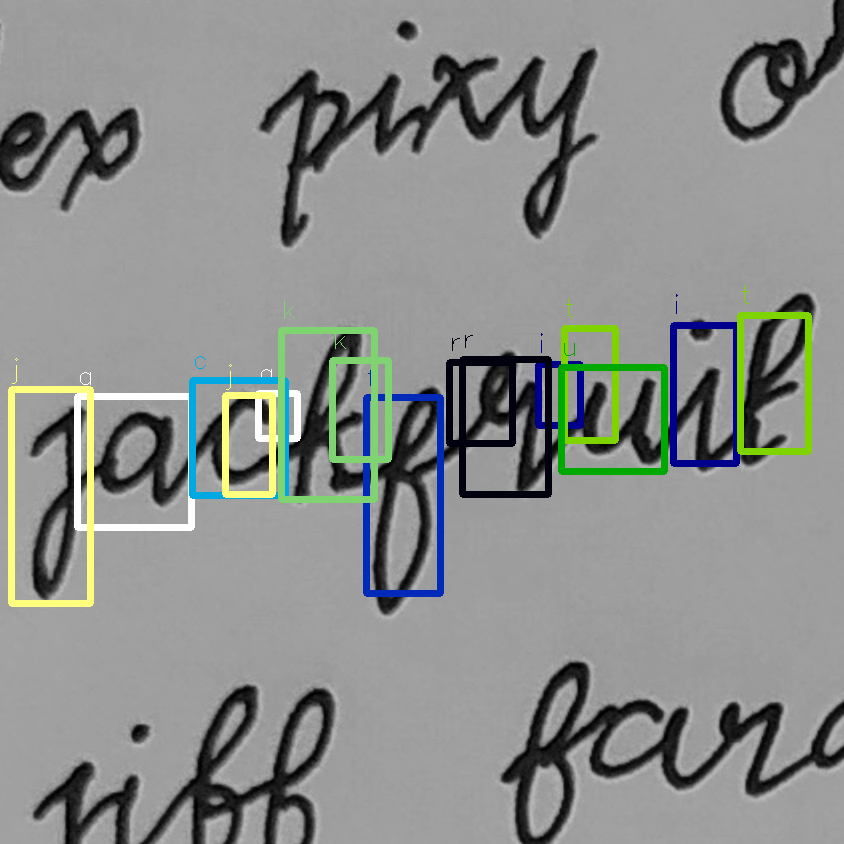a: (94, 405, 188, 508)
c: (200, 387, 281, 489)
f: (369, 379, 452, 617)
i: (670, 312, 726, 478)
j: (19, 399, 92, 606)
k: (285, 323, 373, 507)
r: (458, 345, 556, 506)
t: (733, 287, 822, 469)
u: (570, 367, 665, 483)
